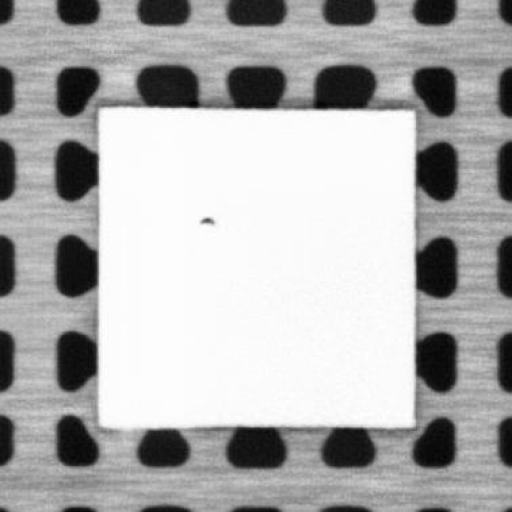DIE_INK: (196, 214, 214, 226)
